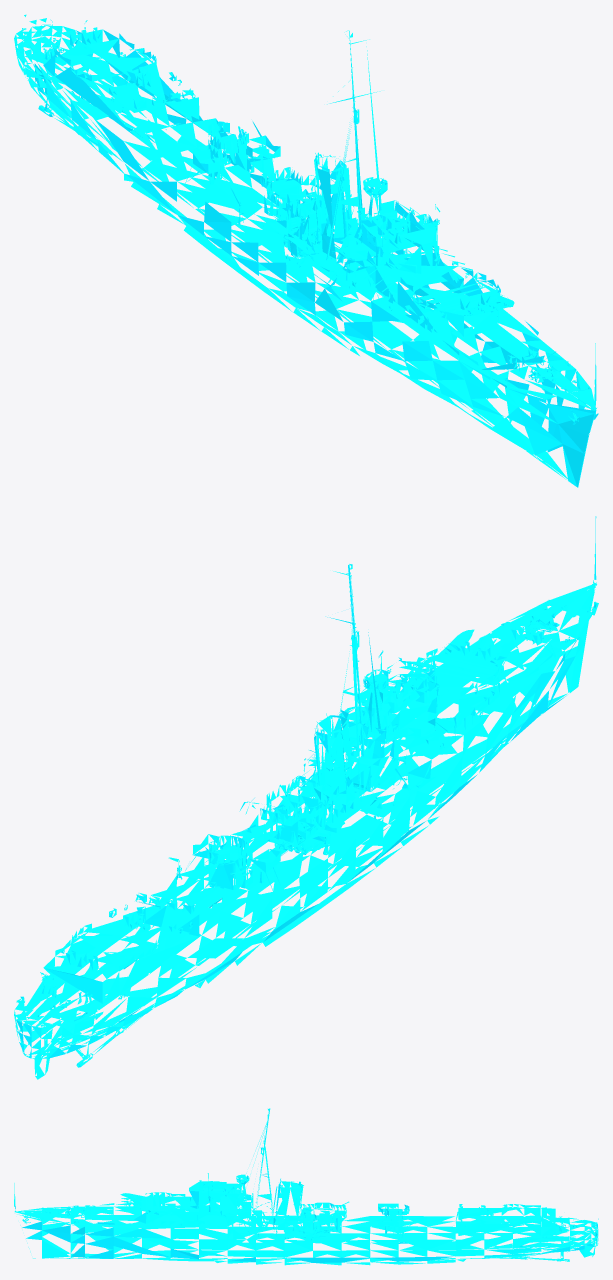
Rendered from Jervis.glb.
3 views of the same model, one above another, from view 1: azimuth 30°, elevation 25°; view 2: azimuth 150°, elevation 25°; view 3: azimuth 270°, elevation 25° (orthographic). The views are drawn at different scales.
Bounding box in the file's own units: 0.7247 × 2.05 × 7.25.
